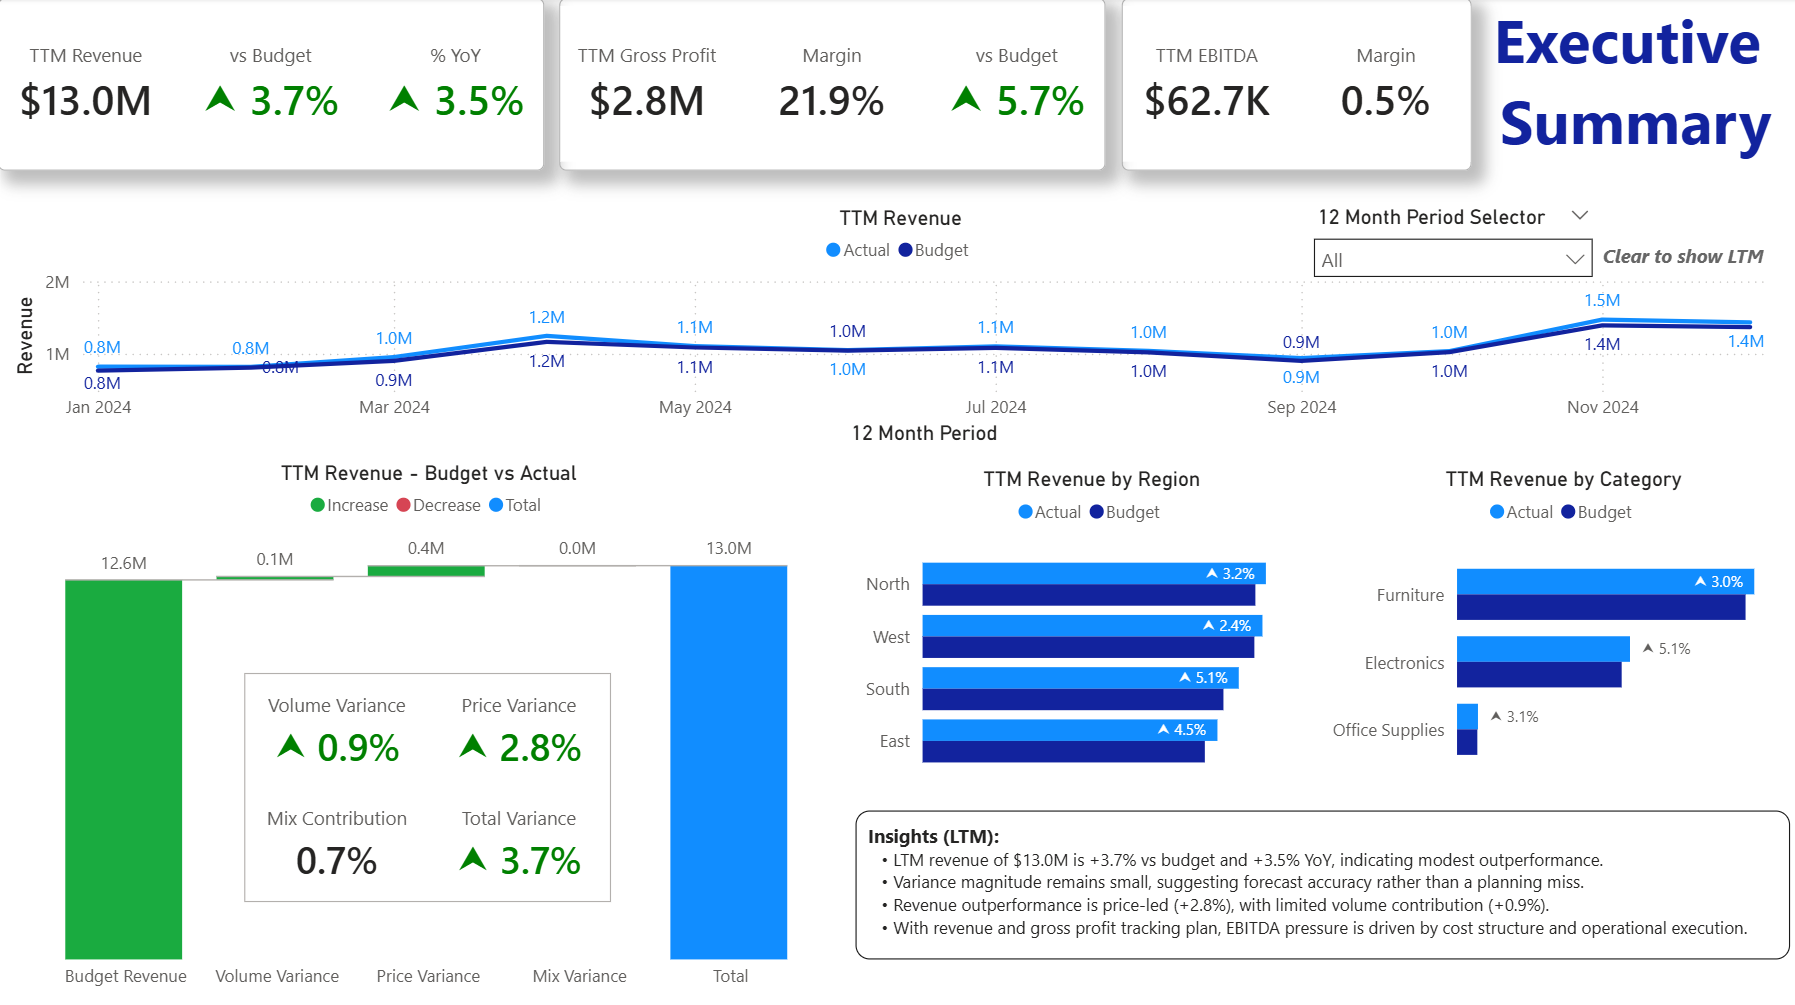

The dashboard page shown, as its layout file describes it:
{"tool":"powerbi","page":{"name":"Executive Summary","canvas":[1280,720],"ordinal":0},"visuals":[{"type":"lineChart","title":"TTM Revenue","fields":{"Category":["public vw_revenue_summary.date"],"Y":["public vw_revenue_summary.Act_Rev TTM","public vw_revenue_summary.Bud_Rev TTM"]},"box":[6.2,147.1,1266.9,174.5],"z":0},{"type":"slicer","fields":{"Values":["public dim_date.date"]},"box":[921.9,141.9,217.9,77.1],"z":1000},{"type":"cardVisual","fields":{"Data":["public vw_revenue_summary.Act_Rev LTM","public vw_revenue_summary.%_rev_var","public vw_revenue_summary.Act_Rev_yoy"]},"box":[0,0,387,122.3],"z":2000},{"type":"textbox","box":[1124.8,173.8,138.2,25.7],"z":3000},{"type":"textbox","box":[1041,0,239.2,122.3],"z":4000},{"type":"waterfallChart","title":"TTM Revenue - Budget vs Actual","fields":{"Y":["Revenue_Waterfall_Axis.Revenue_Waterfall_Value"],"Category":["Revenue_Waterfall_Axis.Step"]},"box":[0,327.8,610.4,383.6],"z":5000},{"type":"cardVisual","fields":{"Data":["public vw_revenue_summary.Act_GP TTM","public vw_revenue_summary.Act_GPM TTM","public vw_revenue_summary.%_GP_var"]},"box":[398.2,0,387,122.3],"z":6000},{"type":"cardVisual","fields":{"Data":["public vw_financials.Act_EBITDA TTM","public vw_financials.Act_EBITDA_margin TTM"]},"box":[796.5,0,248,122.3],"z":7000},{"type":"clusteredBarChart","title":"TTM Revenue by Category","fields":{"Y":["public vw_revenue_summary.Act_Rev TTM","public vw_revenue_summary.Bud_Rev TTM"],"Category":["public vw_revenue_summary.category"]},"box":[939.1,327.8,341.1,230],"z":8000},{"type":"cardVisual","fields":{"Data":["public vw_revenue_summary.%_vol_var","public vw_revenue_summary.%_price_var","public vw_revenue_summary.%_mix_cont","public vw_revenue_summary.%_rev_var"]},"box":[157.7,461.6,295.9,196.7],"z":9000},{"type":"textbox","box":[607.8,575.9,662.7,105.4],"z":10000},{"type":"clusteredBarChart","title":"TTM Revenue by Region","fields":{"Y":["public vw_revenue_summary.Act_Rev TTM","public vw_revenue_summary.Bud_Rev TTM"],"Category":["public vw_revenue_summary.region"]},"box":[611.3,327.8,327.8,230],"z":11000}]}

Visuals, with their boxes in screenshot pixels (x1, y1, x2, y2), scaled from the page's 1280x720 canvas onto the 1795x1005 screenshot:
"TTM Revenue" lineChart: detection(9, 205, 1785, 449)
slicer - public dim_date.date: detection(1293, 198, 1598, 306)
cardVisual - public vw_revenue_summary.Act_Rev LTM x public vw_revenue_summary.%_rev_var: detection(0, 0, 543, 171)
textbox: detection(1577, 243, 1771, 278)
textbox: detection(1460, 0, 1794, 171)
"TTM Revenue - Budget vs Actual" waterfallChart: detection(0, 458, 856, 993)
cardVisual - public vw_revenue_summary.Act_GP TTM x public vw_revenue_summary.Act_GPM TTM: detection(558, 0, 1101, 171)
cardVisual - public vw_financials.Act_EBITDA TTM x public vw_financials.Act_EBITDA_margin TTM: detection(1117, 0, 1465, 171)
"TTM Revenue by Category" clusteredBarChart: detection(1317, 458, 1794, 779)
cardVisual - public vw_revenue_summary.%_vol_var x public vw_revenue_summary.%_price_var: detection(221, 644, 636, 919)
textbox: detection(852, 804, 1782, 951)
"TTM Revenue by Region" clusteredBarChart: detection(857, 458, 1317, 779)
